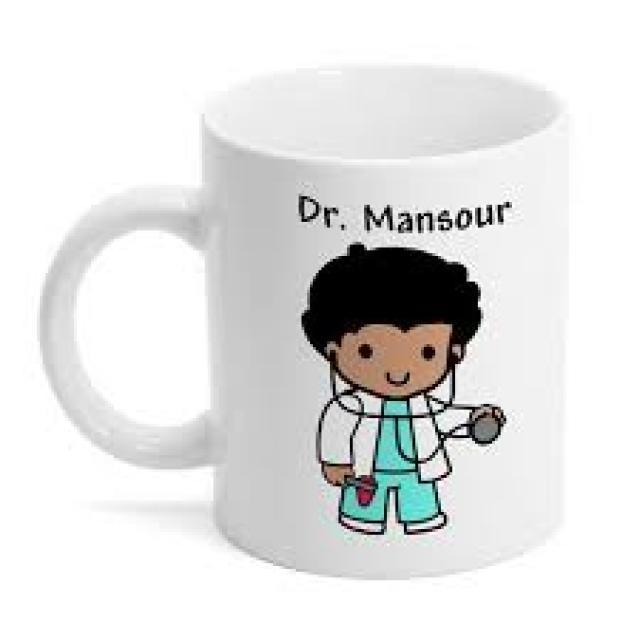taza: (32, 52, 596, 590)
